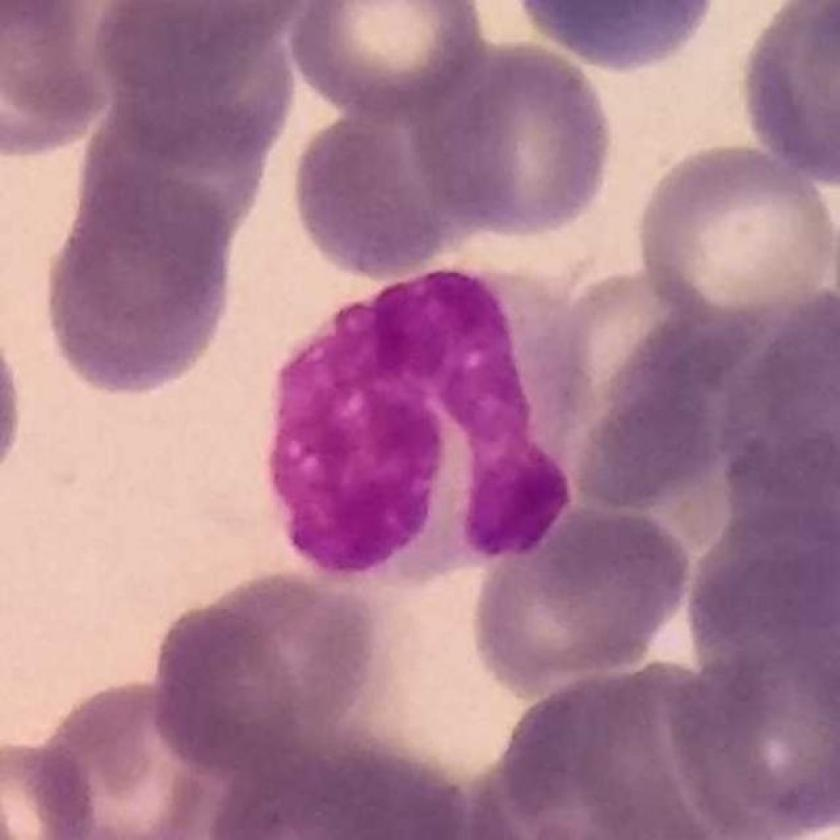monocyte: (266, 246, 604, 584)
